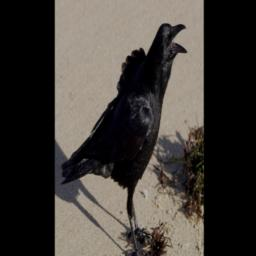Crow: (60, 21, 188, 256)
